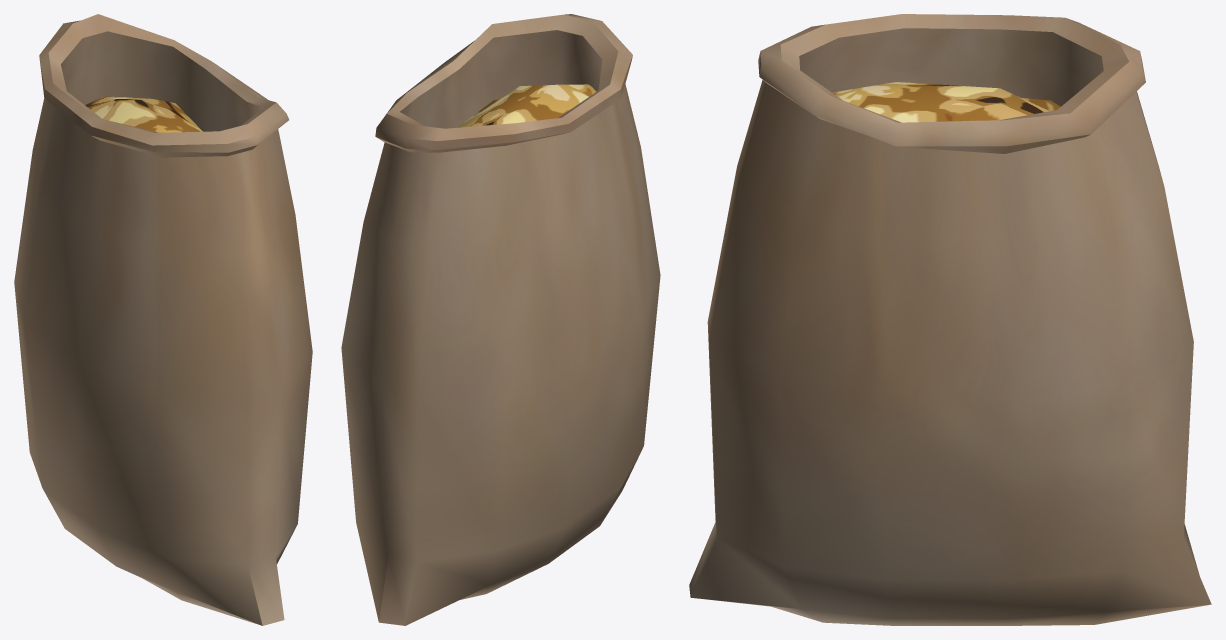
The model's file is PotatoSack_02.fbx.
3 renders of one model, left to right at view 1: azimuth 30°, elevation 25°; view 2: azimuth 150°, elevation 25°; view 3: azimuth 270°, elevation 25°, orthographic. The views are drawn at different scales.
Visible parts, largest first — view 1: Cube.036; view 2: Cube.036; view 3: Cube.036.
Part boxes in pixels (x1,y1,x2,y2): Cube.036: (14,14,312,625); Cube.036: (341,14,660,625); Cube.036: (689,14,1211,625).
Size of the model in its own units: 185 by 215 by 100.
